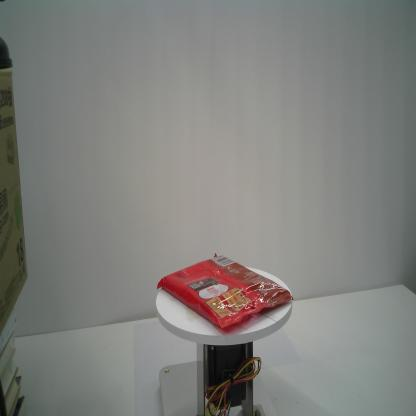Dessert: (157, 255, 294, 330)
